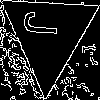J: (23, 10, 66, 38)
